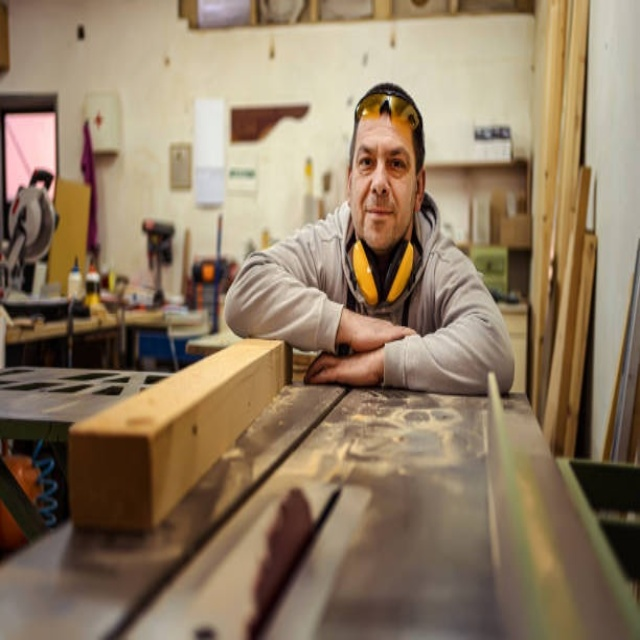Sin_gafas: (353, 141, 411, 180)
Sin_guantes: (304, 342, 383, 394), (348, 304, 418, 355)
Sin_mascara: (362, 195, 396, 237)
